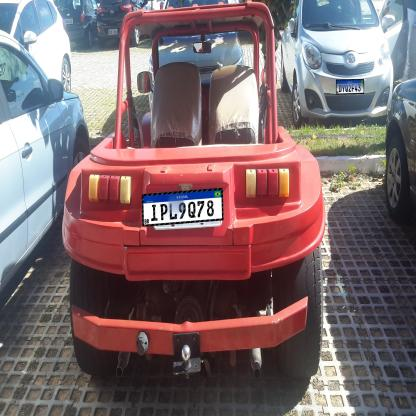PlacaM: (142, 188, 224, 227), (336, 79, 364, 95)
